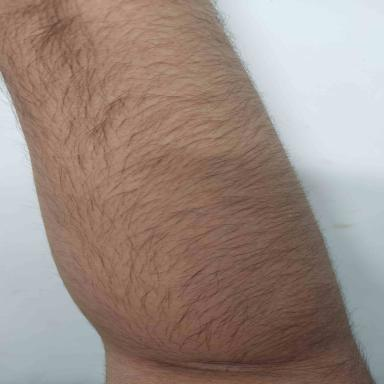normal skin: (1, 0, 373, 384)
